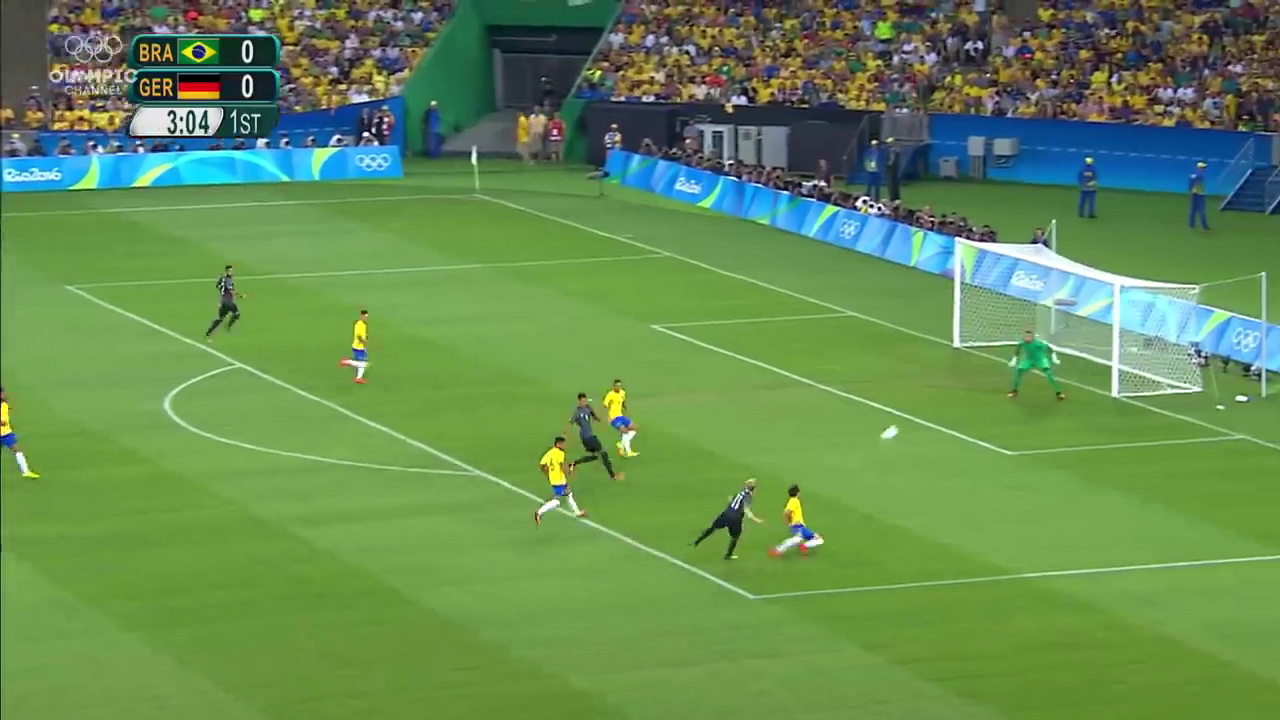ball: (880, 420, 903, 440)
player: (692, 477, 763, 560), (566, 392, 623, 478), (1008, 327, 1068, 402), (534, 439, 585, 521), (773, 482, 823, 560), (1, 380, 40, 477), (604, 379, 641, 464), (207, 262, 243, 337), (343, 309, 374, 387)
